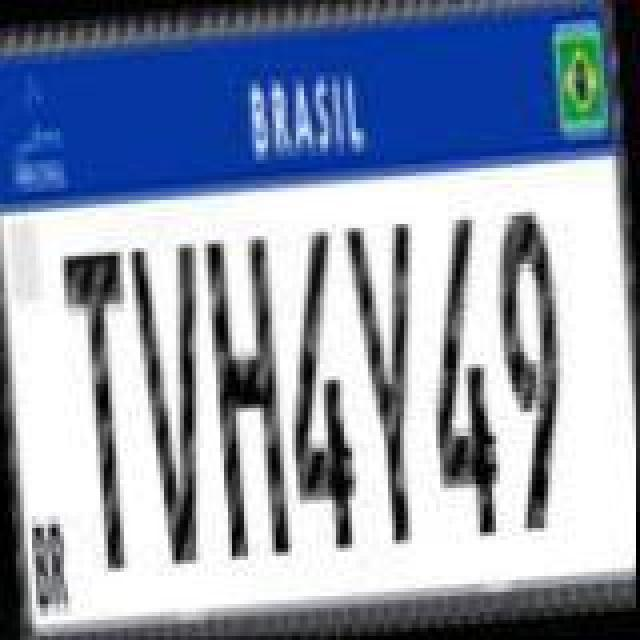4: (272, 224, 364, 556), (418, 212, 506, 544)
9: (488, 206, 580, 538)
H: (202, 228, 298, 568)
T: (56, 250, 148, 582)
V: (126, 238, 222, 574)
Y: (342, 220, 438, 552)
